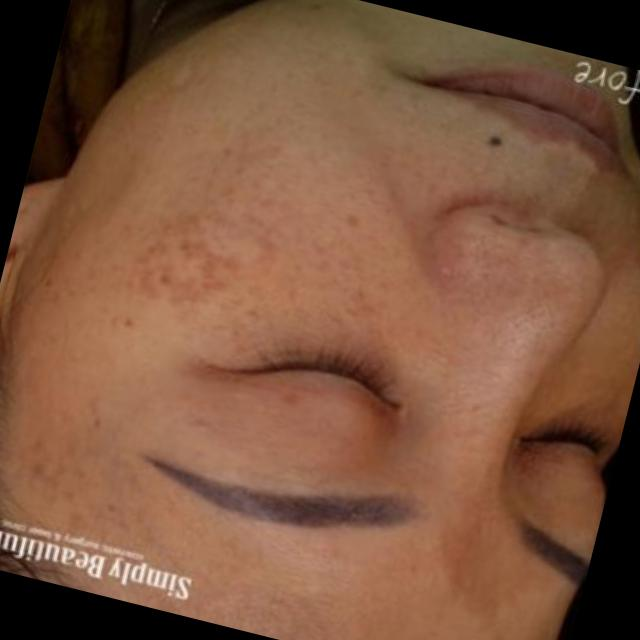melasma: (14, 82, 411, 345), (11, 405, 195, 575)
